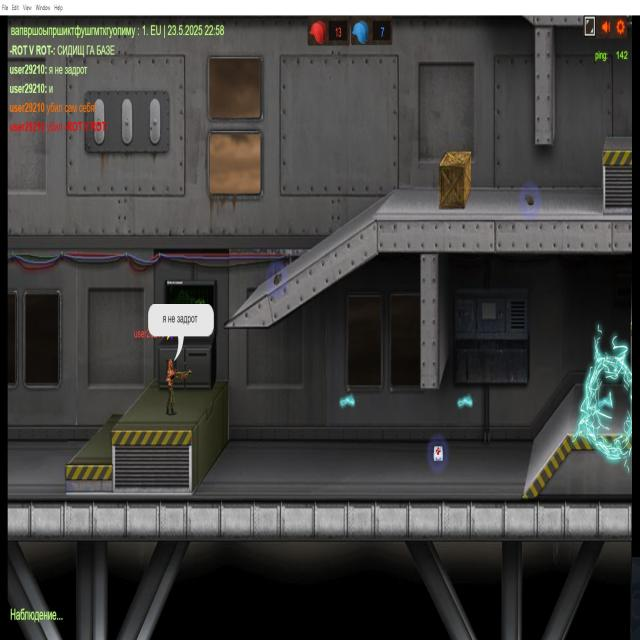enemy: (161, 354, 182, 420)
